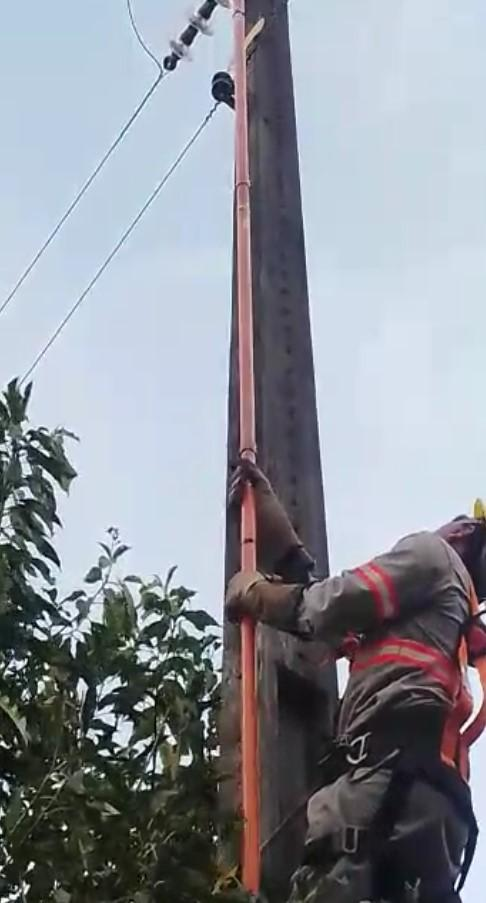Vara_Manobra: (229, 5, 265, 903)
